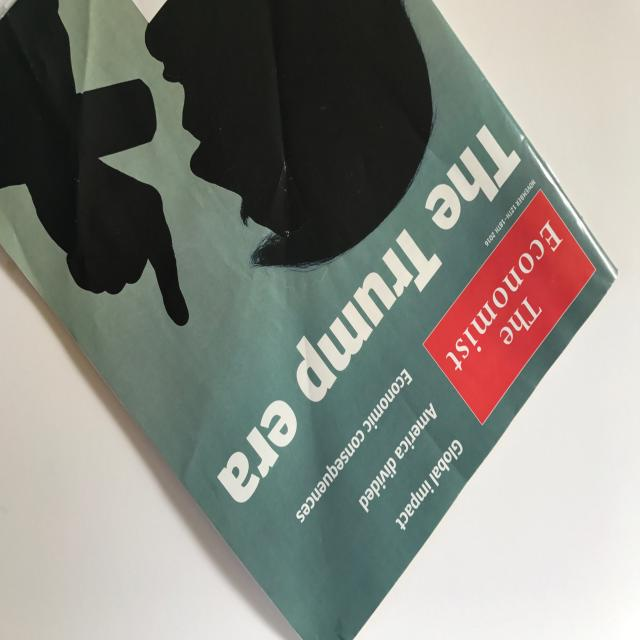paper: (1, 0, 624, 639)
